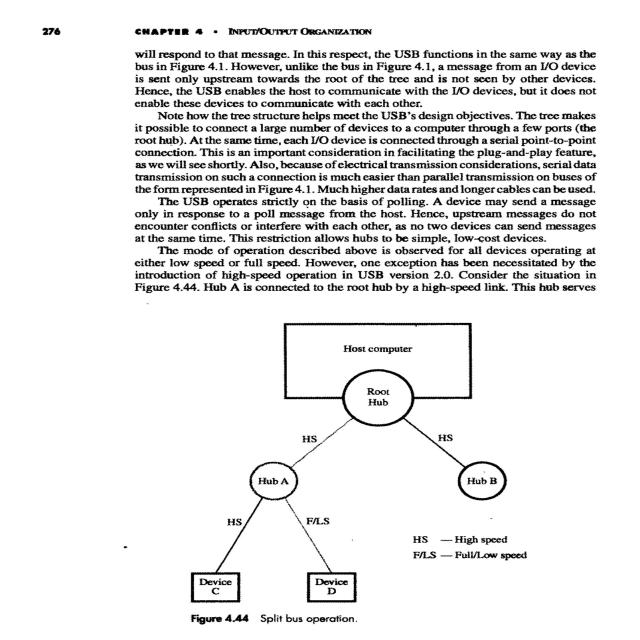diagram: (143, 313, 640, 632)
